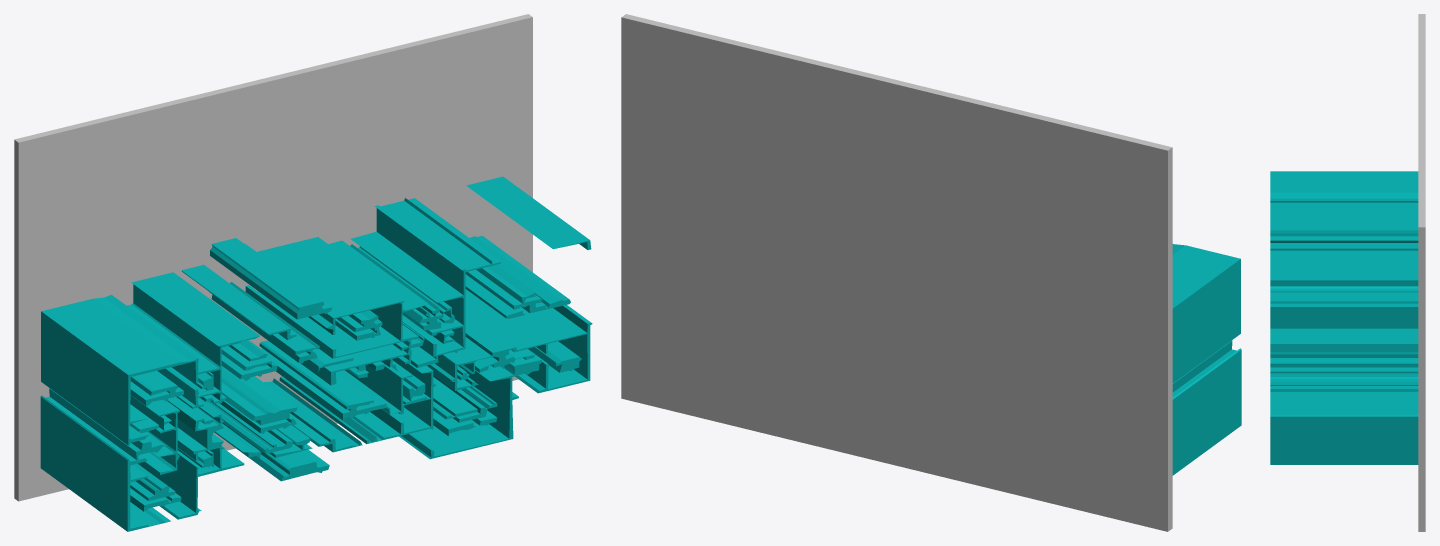
3 views of the same model, side by side, from view 1: azimuth 30°, elevation 25°; view 2: azimuth 150°, elevation 25°; view 3: azimuth 270°, elevation 25° (orthographic). The views are drawn at different scales.
Parts seen in each view (by area): view 1: world; view 2: world; view 3: world.
Part boxes in pixels (box(x1,y1,x2,y2)): world: box(14, 14, 592, 531); world: box(621, 14, 1241, 531); world: box(1270, 14, 1425, 531).
Size of the model in its own units: 10.23 by 6.82 by 3.15.
